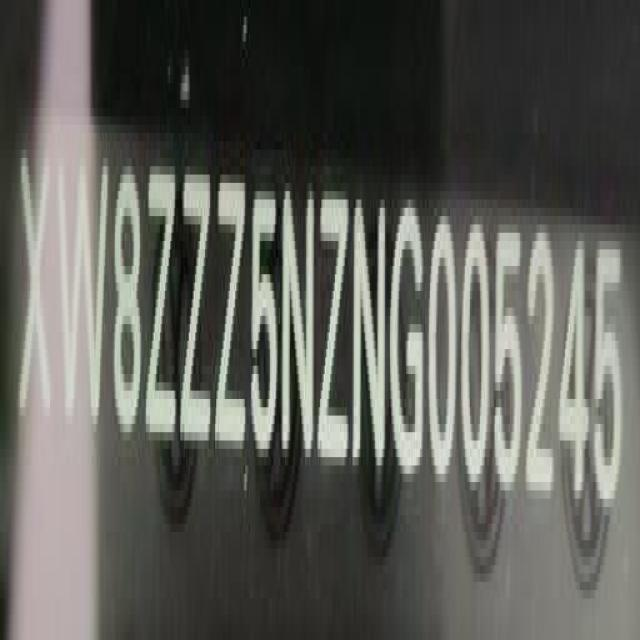0: (428, 203, 458, 492), (462, 213, 492, 494)
2: (528, 222, 556, 511)
4: (558, 227, 590, 518)
5: (250, 168, 280, 470), (596, 232, 627, 523), (496, 212, 526, 503)
8: (113, 157, 143, 453)
G: (389, 182, 425, 477)
N: (352, 184, 389, 486), (284, 171, 319, 479)
W: (55, 147, 107, 448)
X: (14, 142, 53, 448)
Z: (144, 158, 176, 460), (182, 157, 213, 462), (216, 167, 247, 469), (319, 176, 349, 481)
